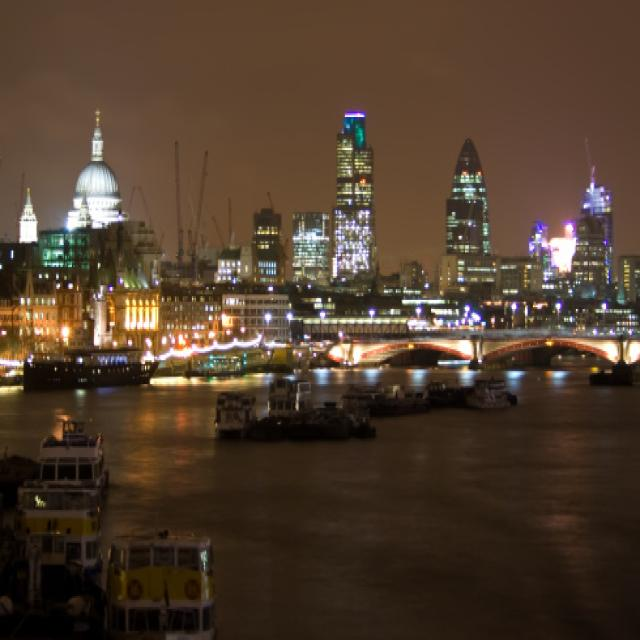Boat: (0, 435, 128, 640), (194, 373, 382, 470), (98, 517, 242, 640), (360, 350, 536, 412), (21, 334, 158, 395), (178, 340, 257, 383)
